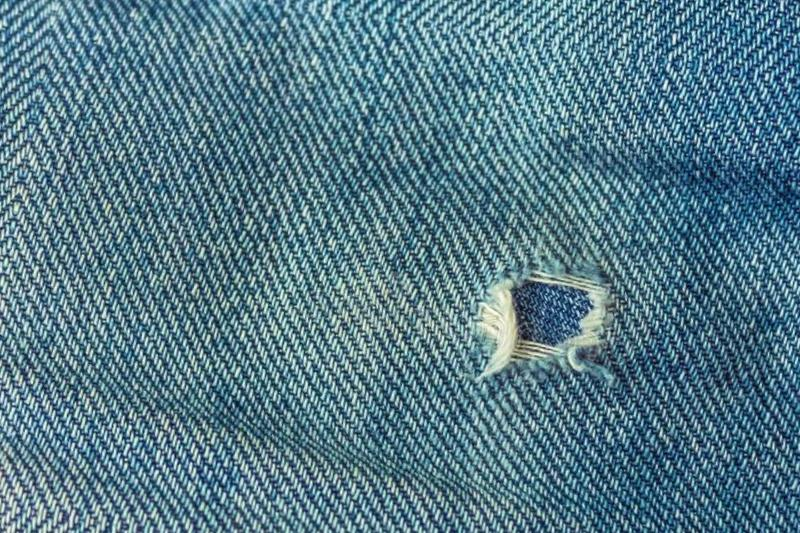hole: (468, 260, 629, 399)
